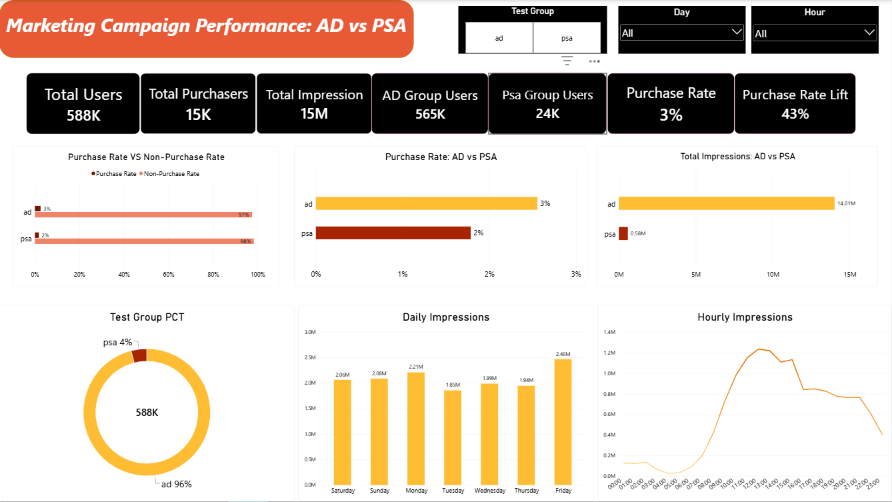

This screenshot's page, from the dashboard's own definition file:
{"tool":"powerbi","page":{"name":"Marketing Performance Overview","canvas":[2560,1440],"ordinal":0},"visuals":[{"type":"cardVisual","fields":{"Data":["marketing_AB.Total Users"]},"box":[78.1,208.2,325.3,175.7],"z":0},{"type":"cardVisual","fields":{"Data":["marketing_AB.Total Purchasers"]},"box":[403.4,208.2,331.8,175.7],"z":1000},{"type":"cardVisual","fields":{"Data":["marketing_AB.Total Ad Shown"]},"box":[735.2,208.2,331.8,175.7],"z":2000},{"type":"cardVisual","fields":{"Data":["marketing_AB.Purchase Rate"]},"box":[1740.4,208.2,364.3,175.7],"z":3000},{"type":"shape","box":[0,0,1187.4,165.9],"z":4000},{"type":"textbox","box":[8.6,34.4,1168.8,131.8],"z":5000},{"type":"cardVisual","fields":{"Data":["marketing_AB.Purchase Increase: Ad vs PSA %"]},"box":[2104.7,208.2,348.1,175.7],"z":6000},{"type":"cardVisual","fields":{"Data":["marketing_AB.AD Group Users"]},"box":[1067,208.2,335.1,175.7],"z":6001},{"type":"cardVisual","fields":{"Data":["marketing_AB.Psa Group Users"]},"box":[1402.1,208.2,338.3,175.7],"z":6002},{"type":"donutChart","title":"Test Group PCT","fields":{"Category":["marketing_AB.test group"],"Y":["CountNonNull(marketing_AB.user id)"]},"box":[0,875.1,845.8,566],"z":6005},{"type":"clusteredBarChart","title":"Total Impressions: AD vs PSA","fields":{"Category":["marketing_AB.test group"],"Y":["marketing_AB.Total Impression"]},"box":[1714.4,419.6,803.5,403.4],"z":6006},{"type":"clusteredBarChart","title":"Purchase Rate VS Non-Purchase Rate","fields":{"Category":["marketing_AB.test group"],"Y":["marketing_AB.Purchase Rate","marketing_AB.Non-Purchase Rate"]},"box":[39,419.6,761.2,403.4],"z":6007},{"type":"clusteredColumnChart","title":"Daily Impressions ","fields":{"Category":["marketing_AB.Peak Ad Day"],"Y":["marketing_AB.Total Impression"]},"box":[855.6,875.1,845.8,566],"z":6008},{"type":"lineChart","title":"Hourly Impressions","fields":{"Category":["marketing_AB.Peak Hour"],"Y":["marketing_AB.Total Impression"]},"box":[1714.4,875.1,845.8,566],"z":6009},{"type":"clusteredBarChart","title":"Purchase Rate: AD vs PSA","fields":{"Category":["marketing_AB.test group"],"Y":["marketing_AB.Purchase Rate"]},"box":[845.8,419.6,839.3,403.4],"z":6010},{"type":"slicer","title":"Test Group","fields":{"Values":["marketing_AB.test group"]},"box":[1314.2,16.3,426.2,136.6],"z":6011},{"type":"slicer","title":"Day","fields":{"Values":["marketing_AB.Peak Impression Day"]},"box":[1772.9,16.3,364.3,136.6],"z":6012},{"type":"slicer","title":"Hour","fields":{"Values":["marketing_AB.Peak Ad Hour"]},"box":[2153.5,16.3,364.3,136.6],"z":6013}]}

Visuals, with their boxes in screenshot pixels (x1, y1, x2, y2), scaled from the page's 2560x1440 canvas onto the 892x502 screenshot:
cardVisual - marketing_AB.Total Users: 27,73,141,134
cardVisual - marketing_AB.Total Purchasers: 141,73,256,134
cardVisual - marketing_AB.Total Ad Shown: 256,73,372,134
cardVisual - marketing_AB.Purchase Rate: 606,73,733,134
shape: 0,0,414,58
textbox: 3,12,410,58
cardVisual - marketing_AB.Purchase Increase: Ad vs PSA %: 733,73,855,134
cardVisual - marketing_AB.AD Group Users: 372,73,489,134
cardVisual - marketing_AB.Psa Group Users: 489,73,606,134
"Test Group PCT" donutChart: 0,305,295,501
"Total Impressions: AD vs PSA" clusteredBarChart: 597,146,877,287
"Purchase Rate VS Non-Purchase Rate" clusteredBarChart: 14,146,279,287
"Daily Impressions " clusteredColumnChart: 298,305,593,501
"Hourly Impressions" lineChart: 597,305,891,501
"Purchase Rate: AD vs PSA" clusteredBarChart: 295,146,587,287
"Test Group" slicer: 458,6,606,53
"Day" slicer: 618,6,745,53
"Hour" slicer: 750,6,877,53
